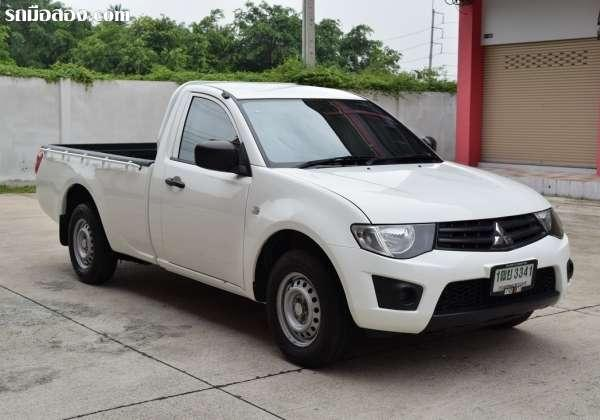pickup: (31, 79, 577, 367)
